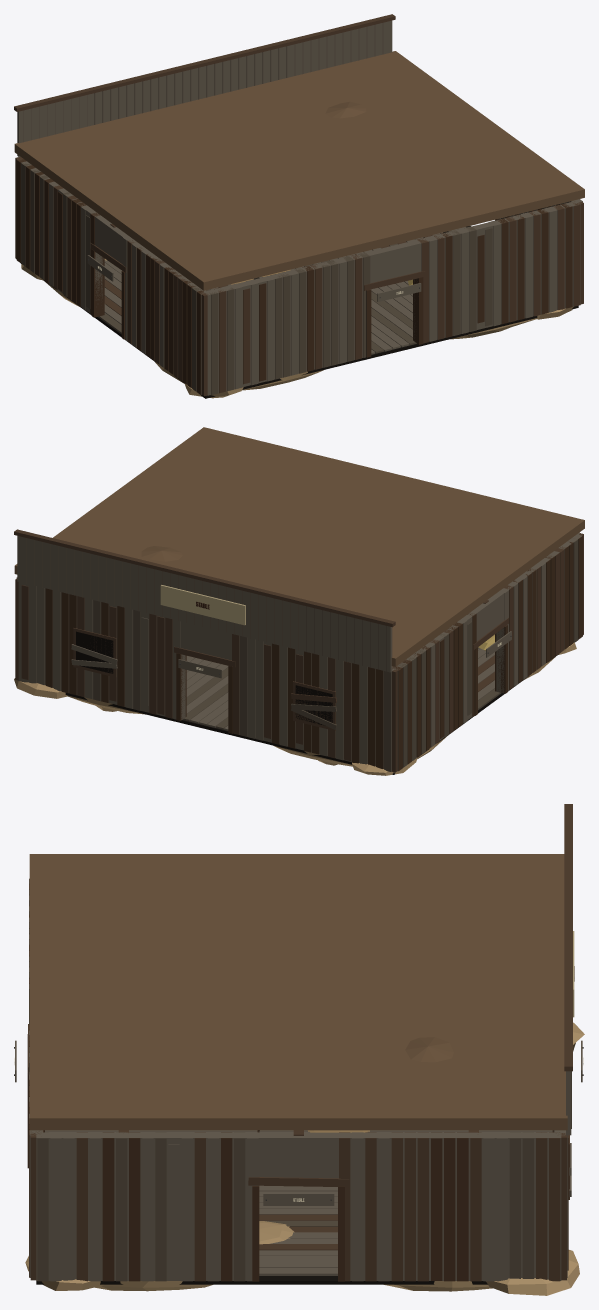
File: TownBldg_stable.glb
The picture shows the model from 3 angles, top to bottom: view 1: azimuth 30°, elevation 25°; view 2: azimuth 150°, elevation 25°; view 3: azimuth 270°, elevation 25°; orthographic projection. The views are drawn at different scales.
Parts seen in each view (by area): view 1: TownBldg_stable.001; view 2: TownBldg_stable.001; view 3: TownBldg_stable.001.
Part boxes in pixels (bbox=[...]): TownBldg_stable.001: bbox=[14, 14, 584, 398]; TownBldg_stable.001: bbox=[14, 427, 584, 775]; TownBldg_stable.001: bbox=[14, 804, 584, 1295].
Bounding box in the file's own units: 15.02 × 6.12 × 13.05.
